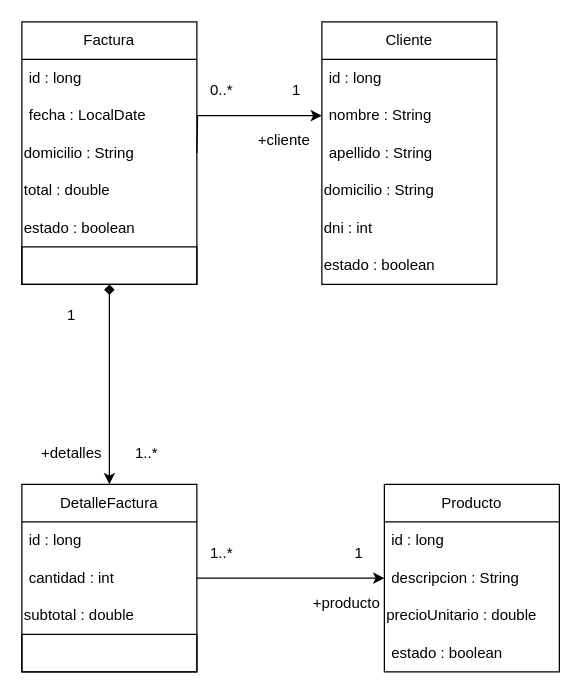
Some shapes in this 581 by 694 pixel diagram are drawn without their labels. The centre of each missing label's shape, as x and y in pixels:
"+calcularSubTotal() : double" belongs at (109,652).
"+calculartTotal() : double" belongs at (109,265).
